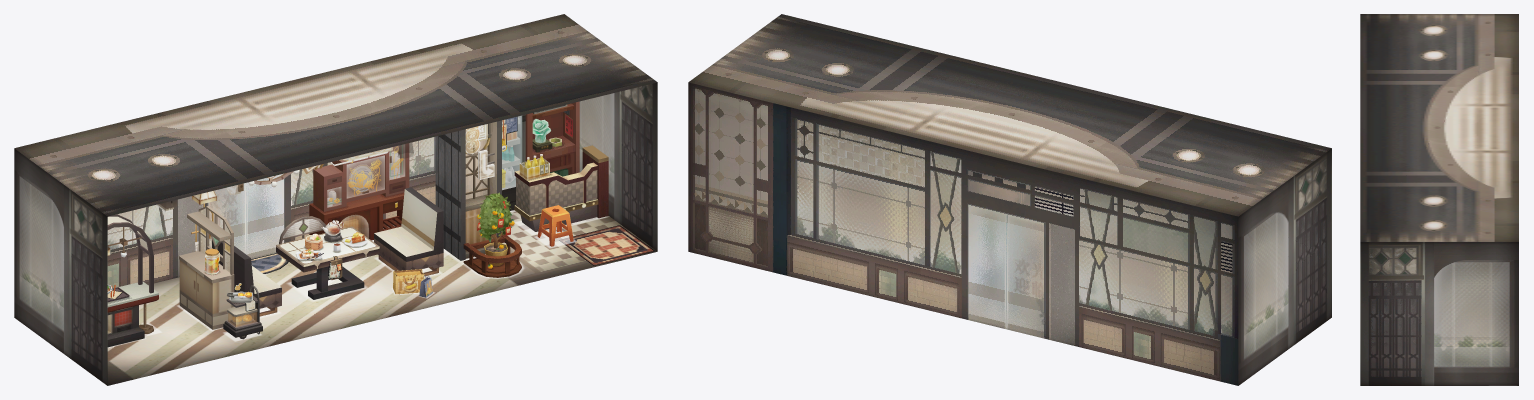
Rendered from teaCanteen.glb.
The picture shows the model from 3 angles, left to right: view 1: azimuth 30°, elevation 25°; view 2: azimuth 150°, elevation 25°; view 3: azimuth 270°, elevation 25°; orthographic projection. The views are drawn at different scales.
Visible parts, largest first — view 1: ROOM_room, ROOM_floor, furni_teaCanteen_column_01, furni_teaCanteen_cabinet_01, furni_teaCanteen_shelf_01, furni_teaCanteen_couch_03, furni_teaCanteen_diningTable_01, furni_teaCanteen_cash_01, furni_teaCanteen_shelf_02.001, furni_teaCanteen_bar_01, furni_teaCanteen_plant_01, furni_teaCanteen_cabinet_05 (+15 smaller); view 2: ROOM_room, ROOM_LDoor; view 3: ROOM_room, ROOM_RDoor.
Part boxes in pixels (box(x1,y1,x2,y2)): ROOM_room: box(14, 14, 657, 385); ROOM_floor: box(107, 210, 657, 385); furni_teaCanteen_column_01: box(435, 120, 501, 260); furni_teaCanteen_cabinet_01: box(309, 143, 409, 240); furni_teaCanteen_shelf_01: box(179, 206, 234, 329); furni_teaCanteen_couch_03: box(374, 187, 443, 276); furni_teaCanteen_diningTable_01: box(276, 226, 379, 299); furni_teaCanteen_cash_01: box(516, 145, 608, 231); furni_teaCanteen_shelf_02.001: box(502, 101, 579, 210); furni_teaCanteen_bar_01: box(107, 214, 158, 347); furni_teaCanteen_plant_01: box(463, 193, 521, 277); furni_teaCanteen_cabinet_05: box(327, 144, 405, 207); ROOM_room: box(688, 14, 1331, 385); ROOM_LDoor: box(1299, 251, 1317, 341); ROOM_room: box(1360, 14, 1518, 385); ROOM_RDoor: box(1383, 320, 1416, 385).
Bounding box in the file's own units: 7.51 × 2.2 × 2.21.
Materials: 7 (7 with a texture image).
